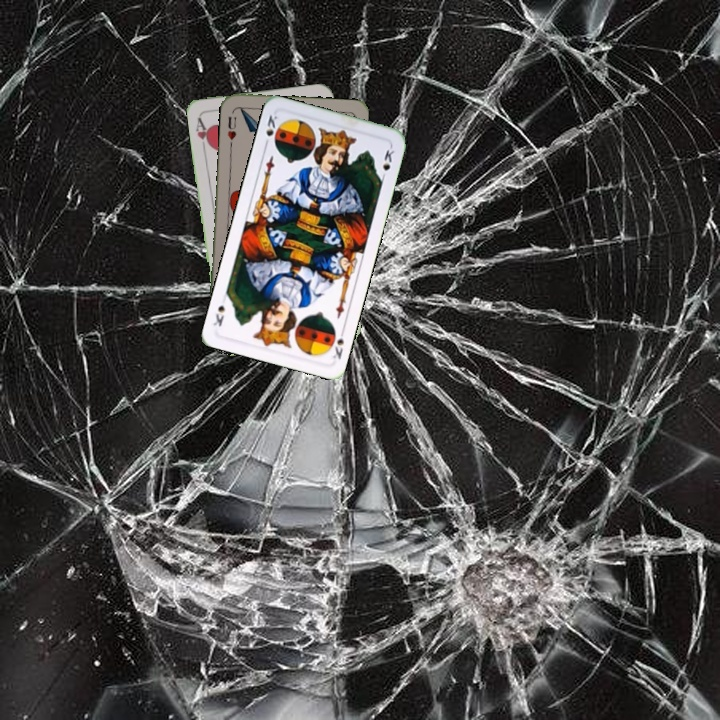HA: (192, 113, 213, 153)
HU: (223, 112, 239, 148)
SK: (260, 110, 280, 150), (327, 324, 347, 362)
